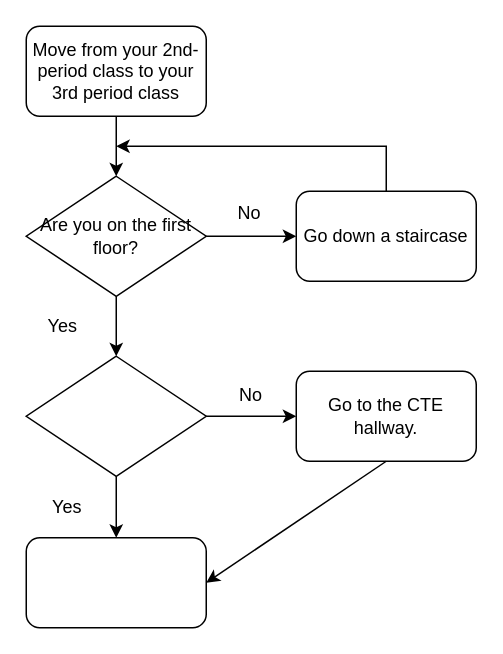
The diagram is 503 pixels wide and 654 high, and some of its shapes have lost their labels. The box of each missing label's shape, as (x1, y1, x2, y2) in pixels:
Are you in the CTE hallway?: (25, 355, 206, 476)
Go to the classroom your 3rd period is in.: (25, 536, 206, 628)
